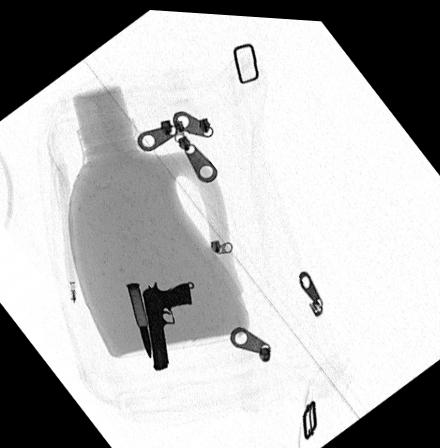Bullet: (125, 279, 152, 356)
Gun: (142, 278, 193, 366)
